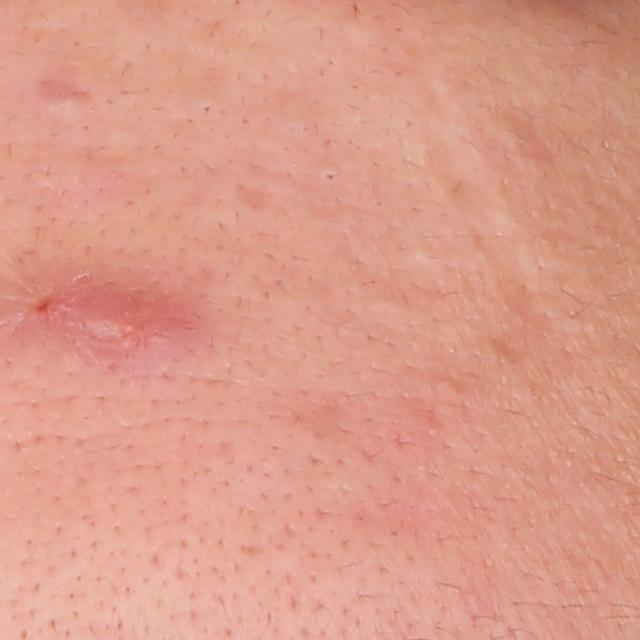comedo: (324, 169, 339, 182)
papule: (50, 282, 151, 358)
